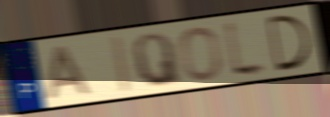A: (45, 43, 93, 102)
D: (264, 12, 314, 73)
I: (109, 33, 135, 95)
L: (221, 16, 272, 82)
O: (178, 25, 224, 82)
Q: (131, 31, 184, 89)
